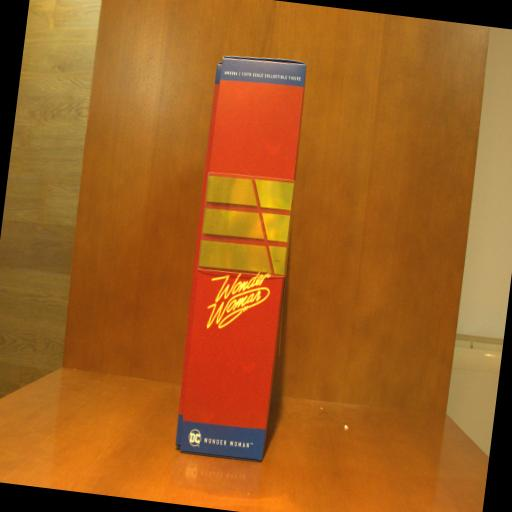WonderWoman: (166, 49, 316, 465)
